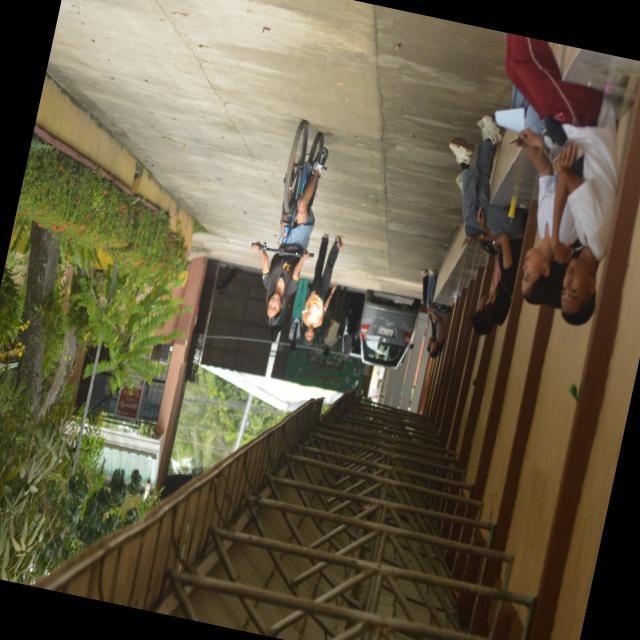person: (506, 33, 618, 324), (450, 115, 526, 323), (253, 147, 328, 324), (512, 86, 569, 303), (302, 234, 342, 345), (427, 268, 451, 357), (324, 286, 347, 356), (289, 277, 308, 350)
